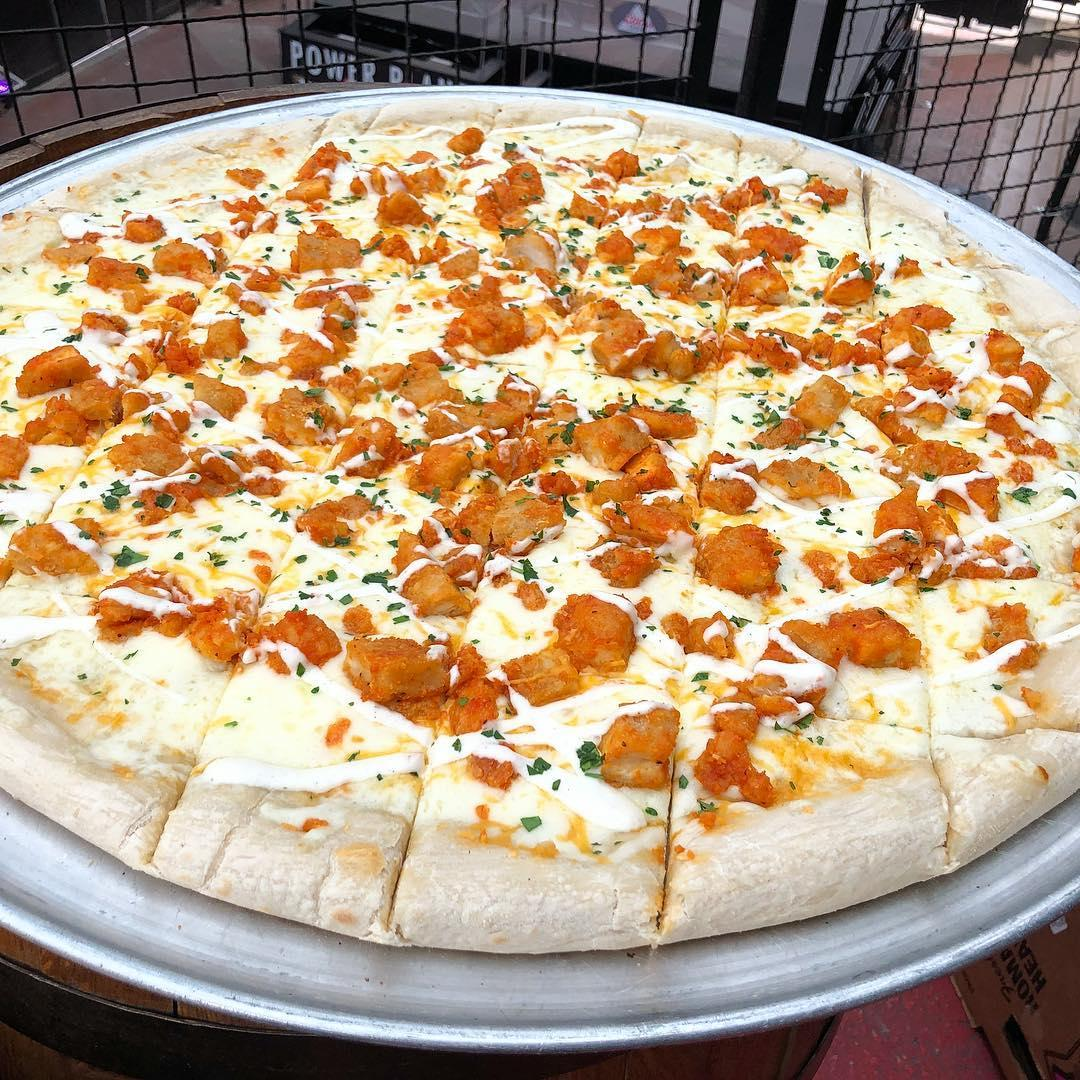Chicken: (99, 570, 341, 674), (594, 408, 697, 589), (854, 491, 1041, 583), (342, 634, 497, 734), (691, 666, 809, 793), (513, 590, 637, 708), (662, 614, 923, 665), (756, 323, 931, 372), (424, 371, 536, 438), (437, 491, 567, 548), (752, 377, 850, 449), (634, 264, 791, 307), (448, 280, 538, 352), (24, 380, 117, 445), (388, 550, 476, 618), (697, 525, 783, 589), (289, 286, 352, 371), (11, 521, 98, 580), (878, 437, 977, 481), (473, 163, 541, 225), (370, 164, 437, 226), (297, 491, 372, 545), (766, 458, 852, 503), (265, 384, 335, 439), (15, 347, 97, 389), (110, 431, 187, 475), (289, 141, 346, 200), (342, 416, 400, 472), (600, 227, 681, 265), (409, 448, 471, 496), (371, 362, 445, 402), (189, 370, 247, 420), (742, 221, 809, 264), (297, 230, 360, 269), (84, 258, 150, 293), (699, 475, 758, 512), (156, 240, 212, 278), (204, 319, 247, 358), (719, 179, 778, 207), (568, 189, 609, 228), (0, 436, 30, 485), (119, 217, 169, 241), (445, 126, 485, 154), (605, 149, 640, 180)
Pizza: (0, 112, 1080, 952)
